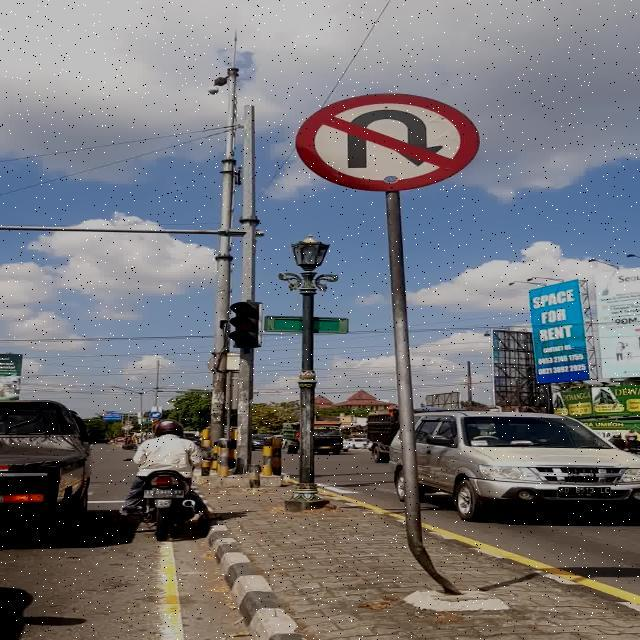Dilarang Putar Balik: (296, 92, 480, 192)
